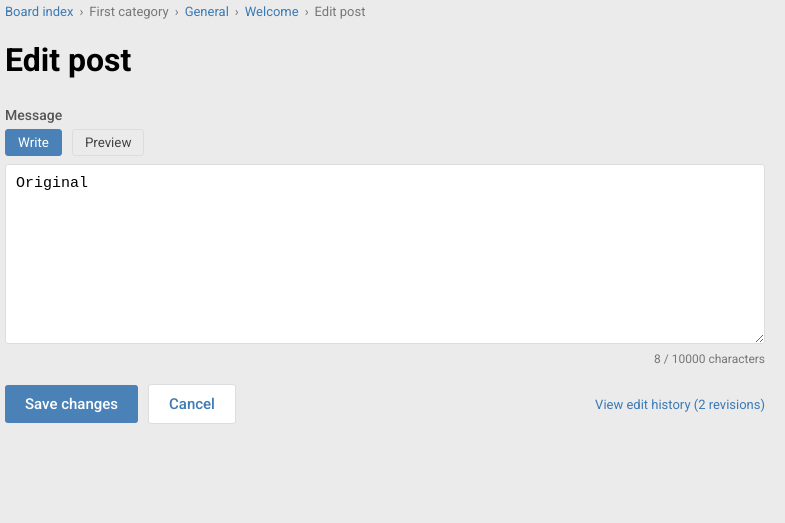
Scenario: keeps the text when the server rejects the edit
Type "!" into the text box labelled "Message" at {"x": 385, "y": 254}, box [5, 164, 765, 344]
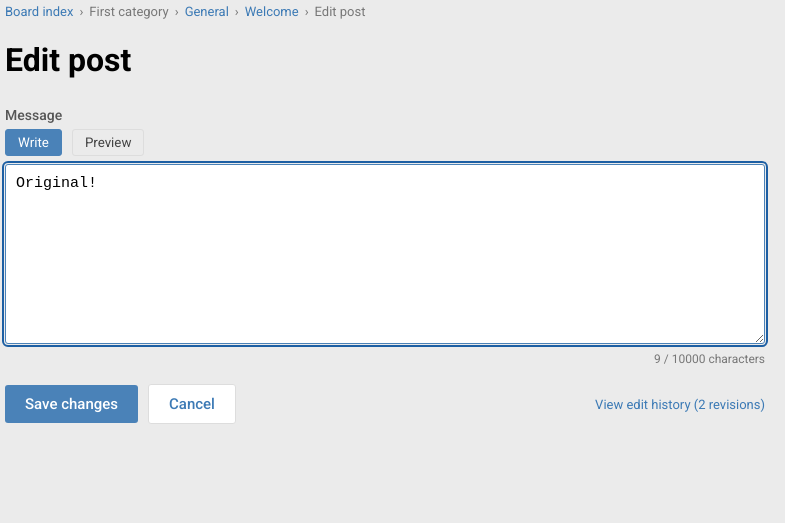
Click the button "Save changes" at {"x": 72, "y": 404}, box [5, 385, 138, 423]
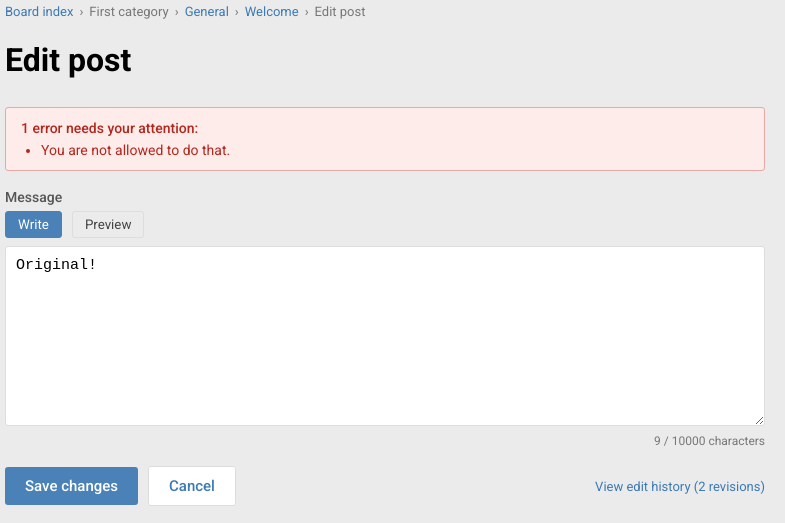
Now the text box labelled "Message" holds "Original!", box [5, 246, 765, 426]
Now the message shows "You are not allowed to do that.", box [41, 142, 230, 158]
